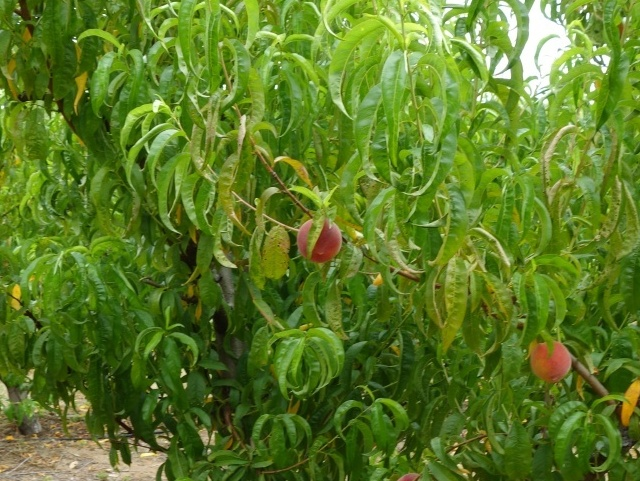peach: (293, 213, 346, 268), (525, 335, 574, 388)
